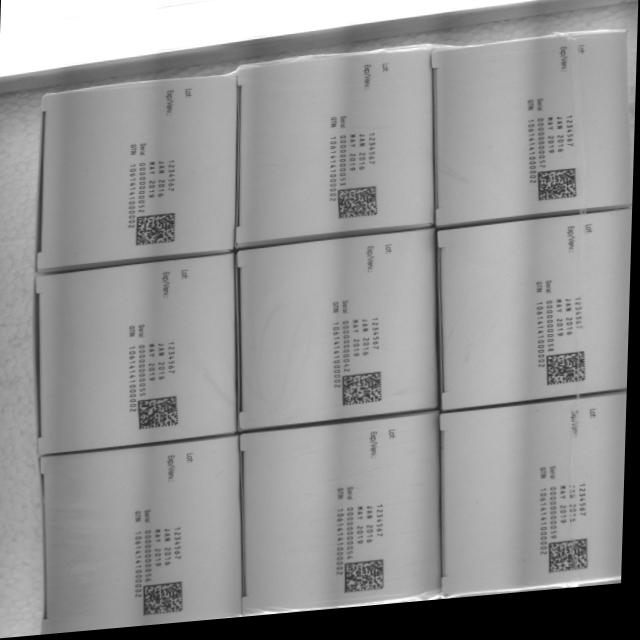datamatrix: (551, 548, 596, 586), (538, 178, 582, 216), (545, 362, 590, 399), (338, 192, 383, 229), (343, 378, 388, 415), (345, 566, 390, 603), (145, 585, 190, 622), (136, 216, 181, 253), (139, 399, 183, 436)
